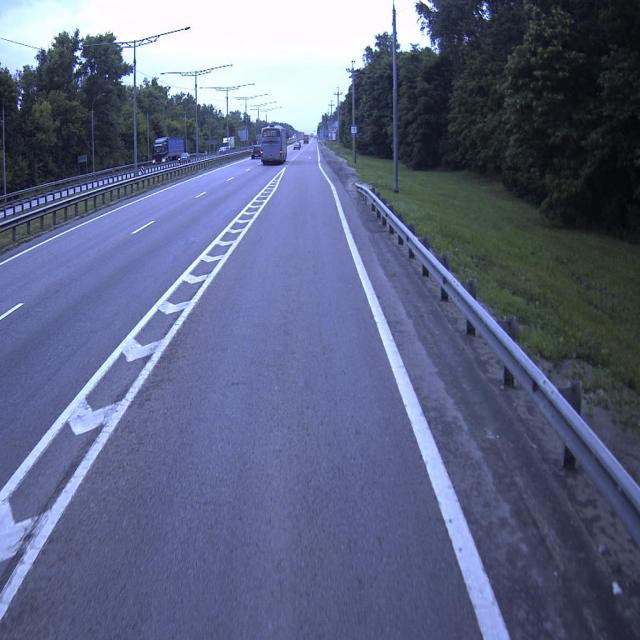road: (0, 141, 565, 639)
